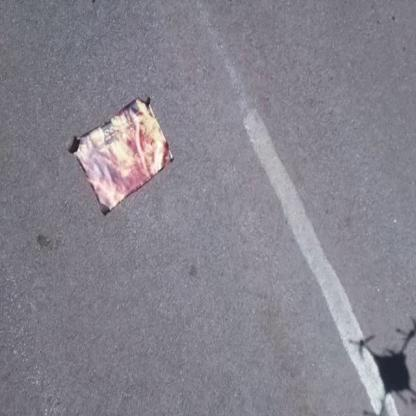fire-poster: (70, 94, 174, 216)
